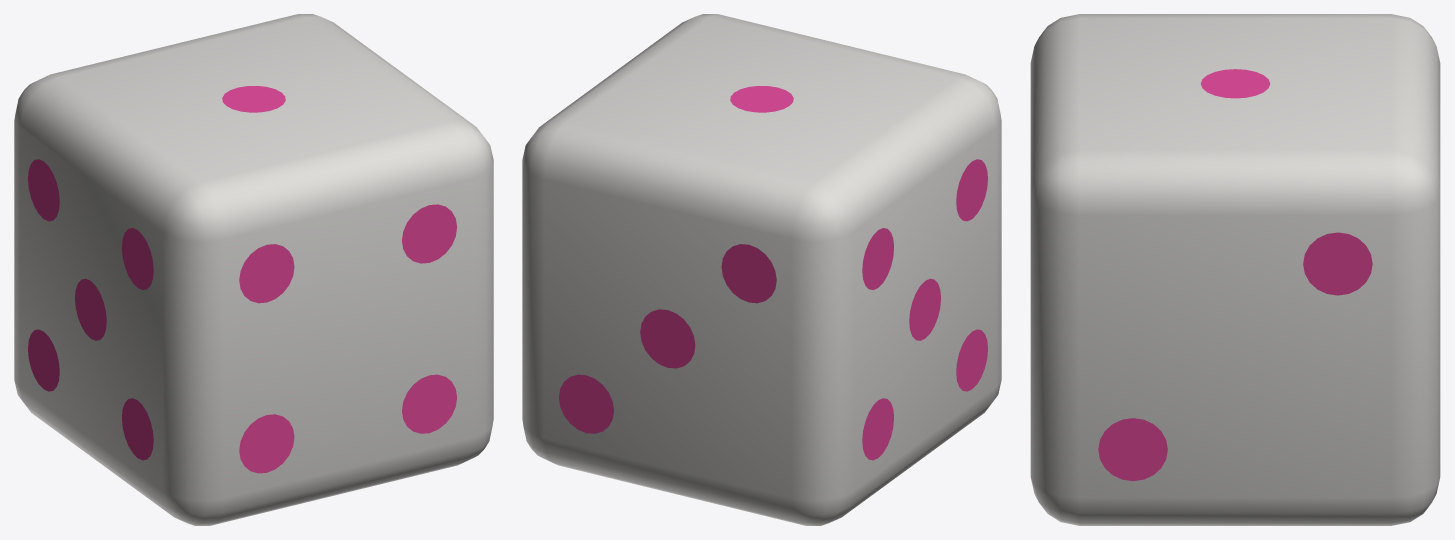
The model's file is die.glb.
3 views of the same model, side by side, from view 1: azimuth 30°, elevation 25°; view 2: azimuth 150°, elevation 25°; view 3: azimuth 270°, elevation 25° (orthographic). The views are drawn at different scales.
Parts seen in each view (by area): view 1: Die; view 2: Die; view 3: Die.
Part boxes in pixels (<box>): Die: <box>14,14,493,525</box>; Die: <box>522,14,1001,525</box>; Die: <box>1030,14,1440,525</box>.
Size of the model in its own units: 1 by 1 by 1.
